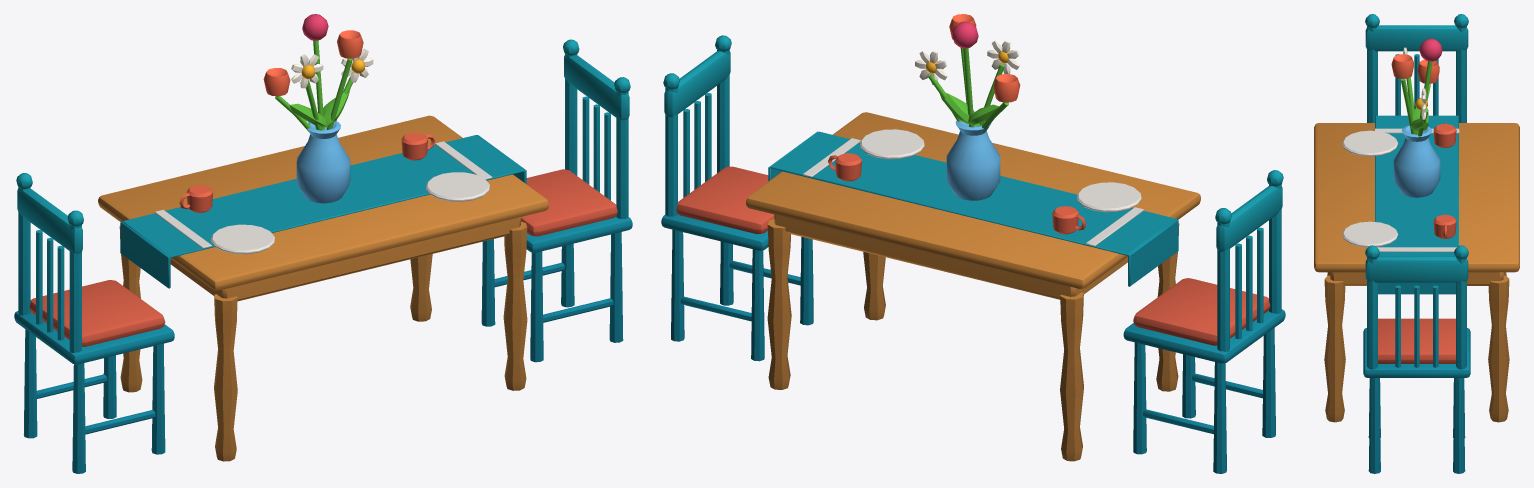
File: dining_table.glb
The picture shows the model from 3 angles, left to right: view 1: azimuth 30°, elevation 25°; view 2: azimuth 150°, elevation 25°; view 3: azimuth 270°, elevation 25°; orthographic projection. The views are drawn at different scales.
Parts seen in each view (by area): view 1: dining_table; view 2: dining_table; view 3: dining_table.
Boxes of the visible parts, left/top/right/bottom form: dining_table: left=14, top=14, right=632, bottom=473; dining_table: left=661, top=14, right=1285, bottom=473; dining_table: left=1314, top=14, right=1519, bottom=473.
Bounding box in the file's own units: 2.4 × 1.5 × 0.88.
